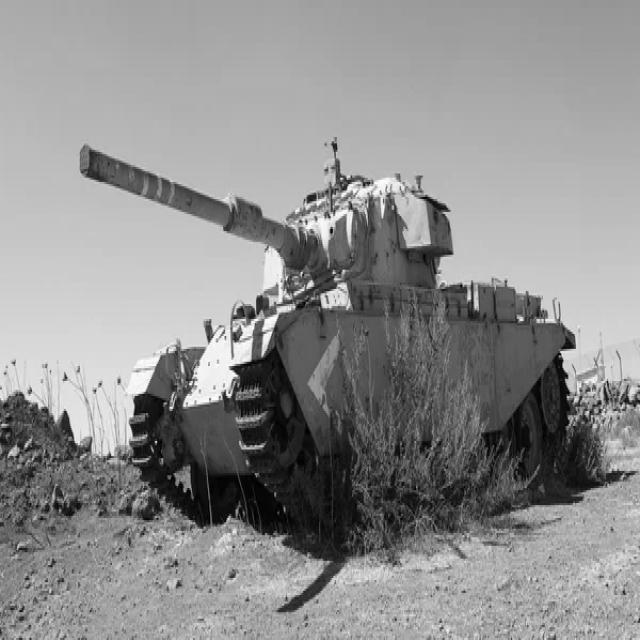Tank: (71, 128, 580, 552)
